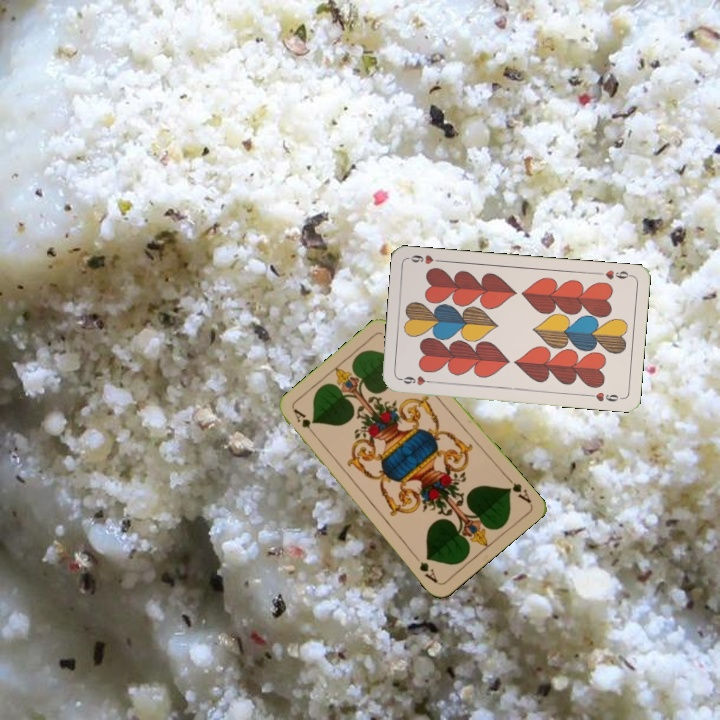GA: (502, 472, 534, 506), (289, 405, 320, 440)
H9: (594, 266, 634, 282), (396, 372, 436, 388)
